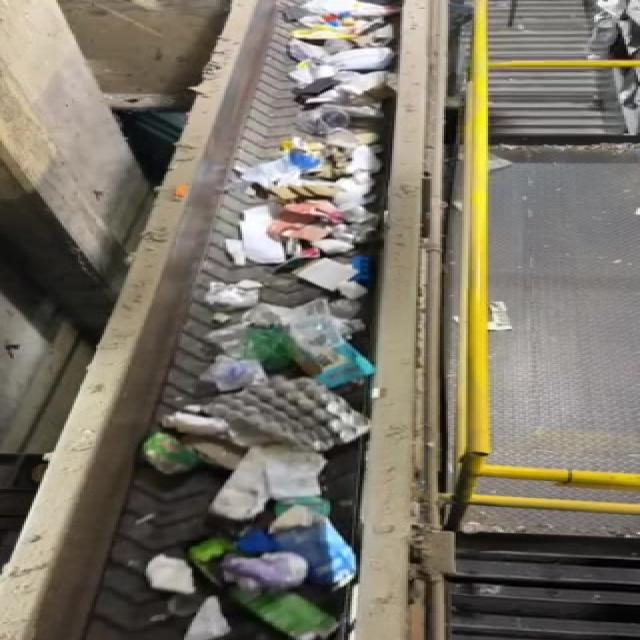paper: (228, 445, 329, 522), (157, 597, 250, 640), (132, 547, 206, 599)
pp: (268, 304, 379, 382), (272, 515, 363, 595), (123, 426, 211, 482)
ps: (195, 378, 401, 452)
